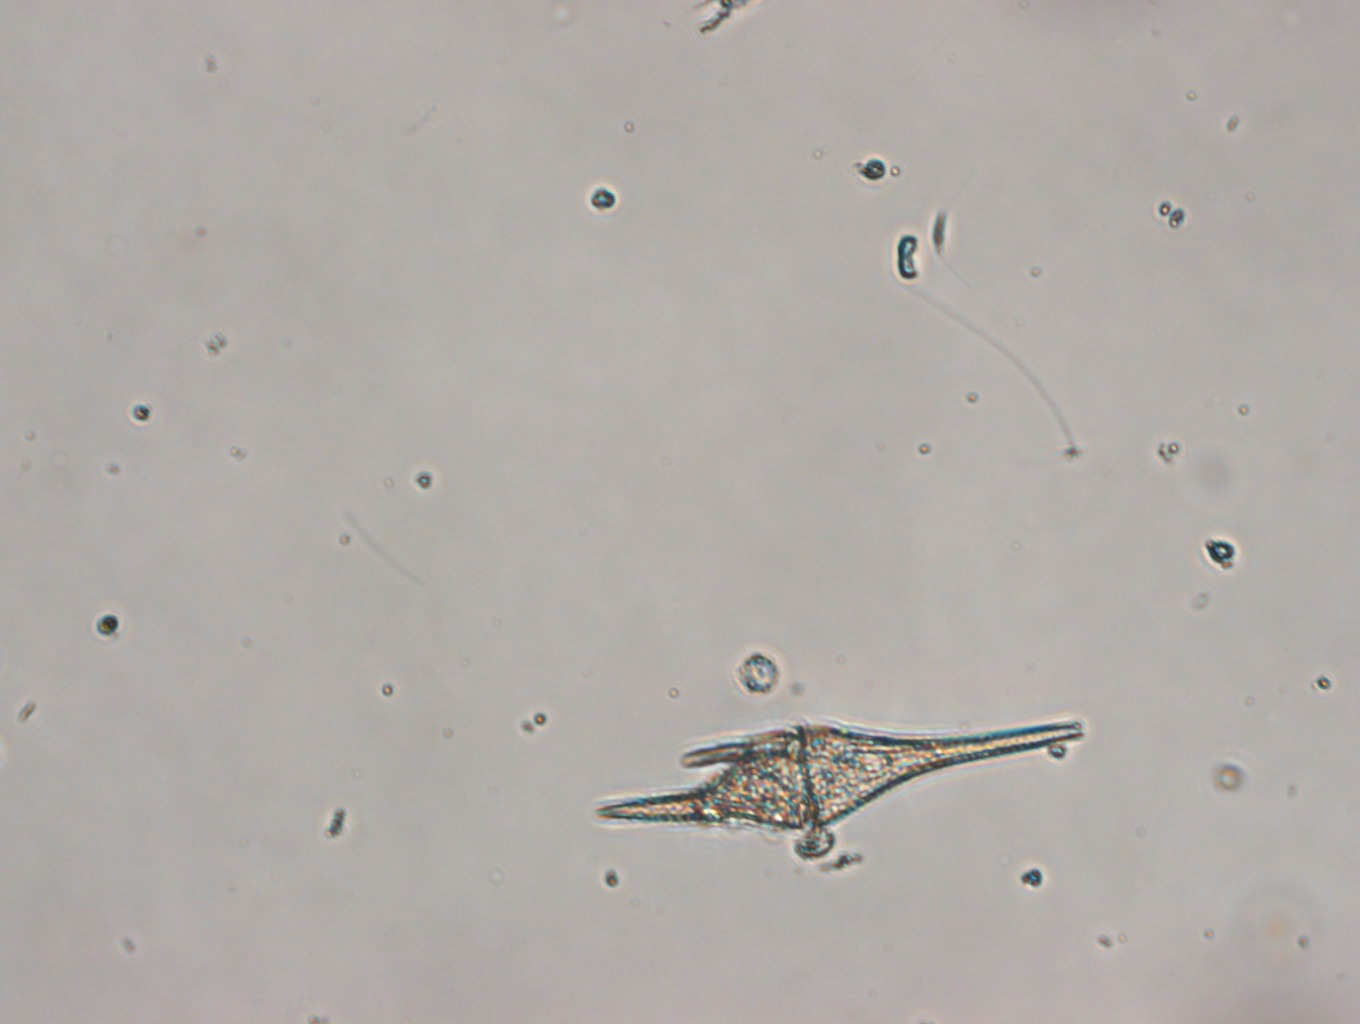ceratium furca: (588, 705, 1084, 862)
